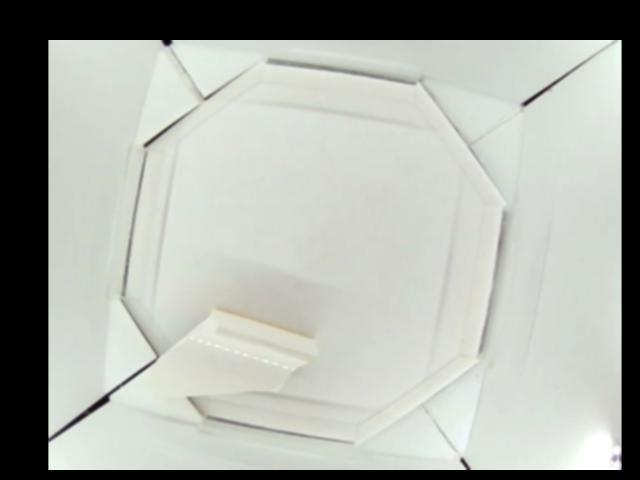China: (109, 306, 315, 401)
